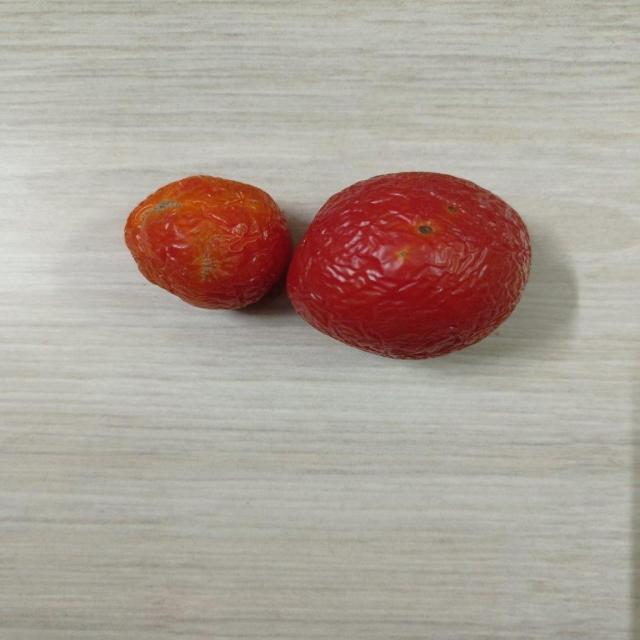overripe: (294, 167, 539, 360), (122, 173, 292, 315)
